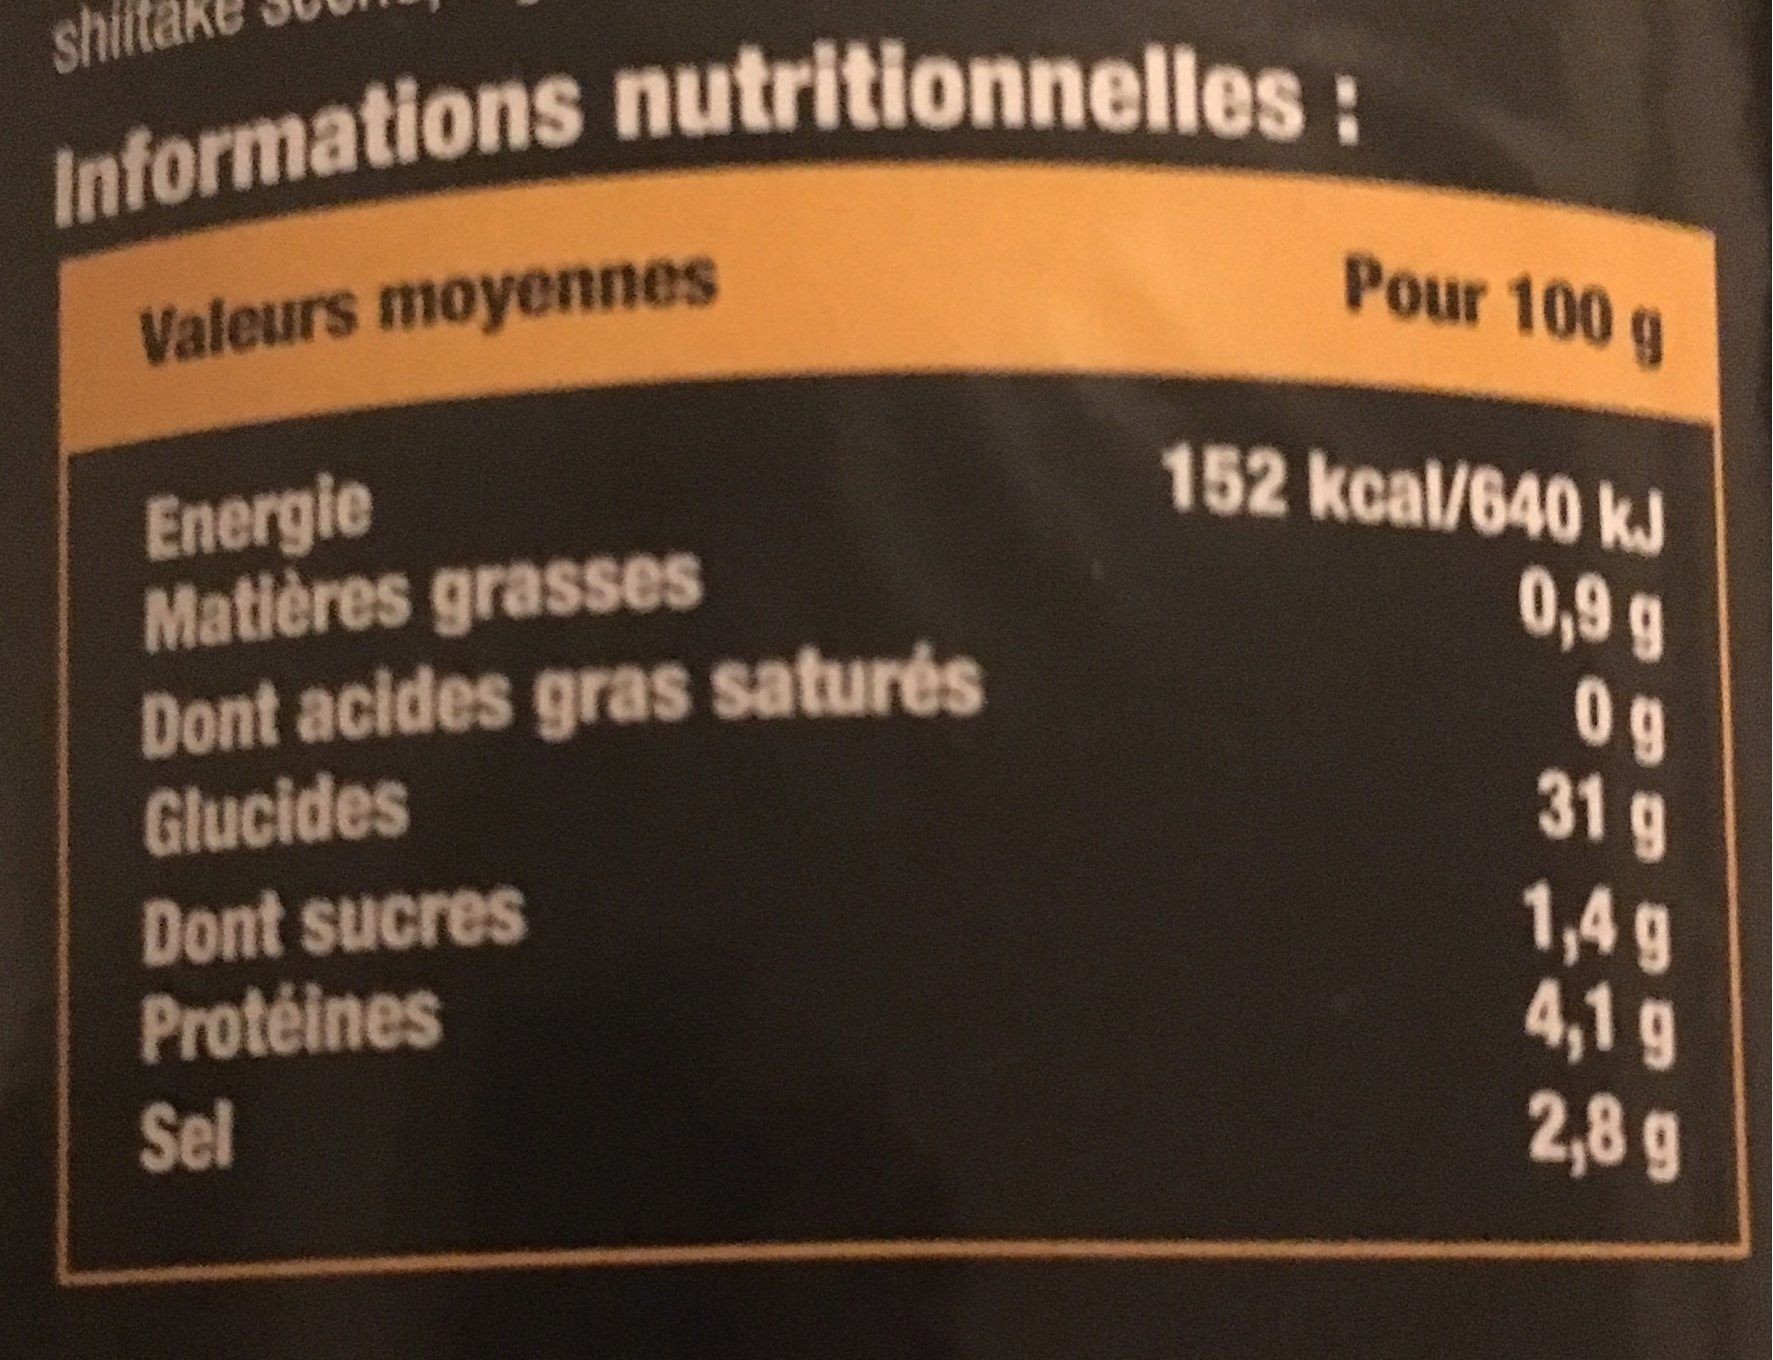column: (140, 439, 990, 1183), (1152, 431, 1682, 1193)
table: (73, 33, 1746, 1271)
